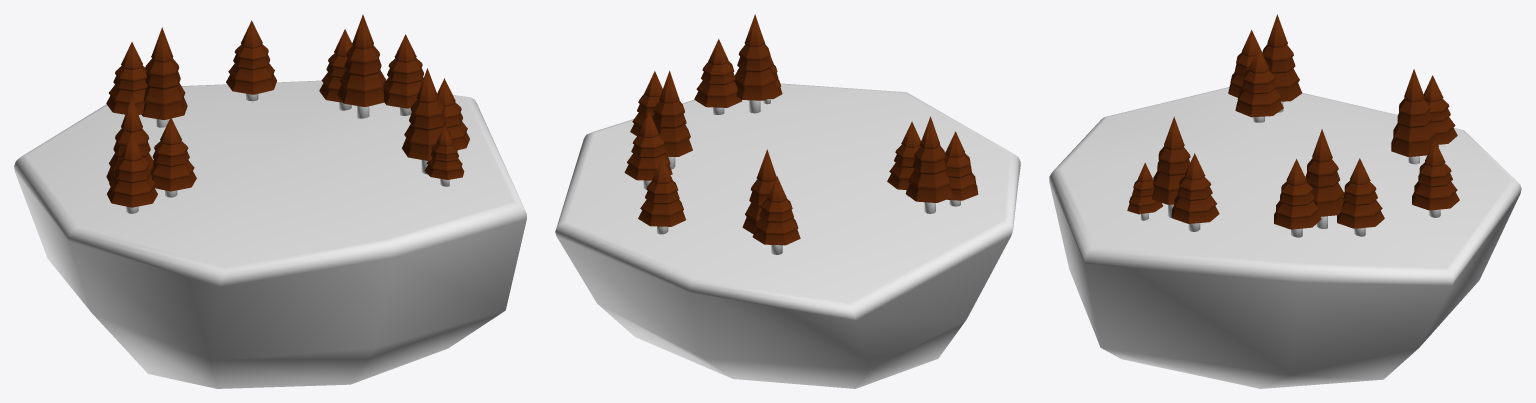
The model's file is FullIsland.fbx.
3 views of the same model, side by side, from view 1: azimuth 30°, elevation 25°; view 2: azimuth 150°, elevation 25°; view 3: azimuth 270°, elevation 25° (orthographic). The views are drawn at different scales.
Visible parts, largest first — view 1: FullIsland.025, Tree_Full; view 2: FullIsland.025, Tree_Full; view 3: FullIsland.025, Tree_Full.
Boxes of the visible parts, box(x1,y1,x2,y2) form: FullIsland.025: box(14, 80, 526, 388); Tree_Full: box(106, 14, 469, 213); FullIsland.025: box(555, 83, 1020, 388); Tree_Full: box(624, 14, 978, 254); FullIsland.025: box(1049, 87, 1521, 388); Tree_Full: box(1127, 14, 1459, 237).
Size of the model in its own units: 182 by 118 by 181.
